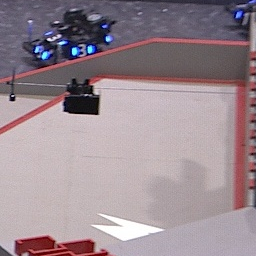Blue: (43, 30, 68, 47), (68, 43, 96, 58), (31, 45, 48, 60)
Robot: (21, 7, 116, 65), (227, 1, 256, 28)
